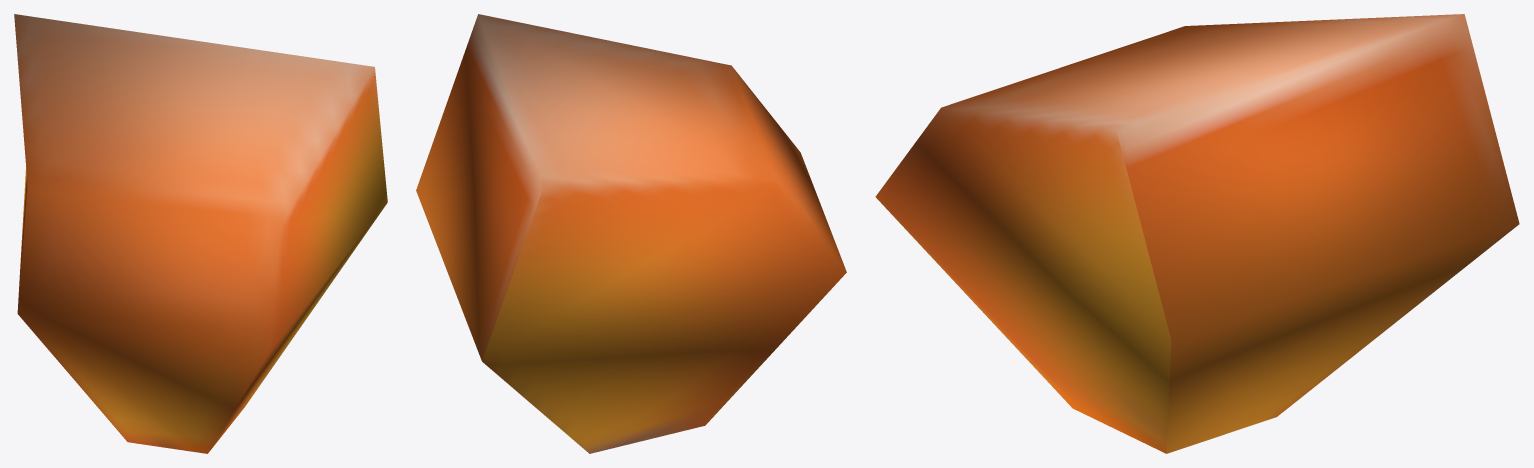
Rendered from huyoubaoshi_01.FBX.
3 renders of one model, left to right at view 1: azimuth 30°, elevation 25°; view 2: azimuth 150°, elevation 25°; view 3: azimuth 270°, elevation 25°, orthographic. The views are drawn at different scales.
Parts seen in each view (by area): view 1: huyoubaoshi_01; view 2: huyoubaoshi_01; view 3: huyoubaoshi_01.
Boxes of the visible parts, x1,y1,x2,y2 form: huyoubaoshi_01: (14, 14, 387, 453); huyoubaoshi_01: (416, 14, 846, 453); huyoubaoshi_01: (875, 14, 1519, 453).
Bounding box in the file's own units: 95.87 × 77.13 × 116.
